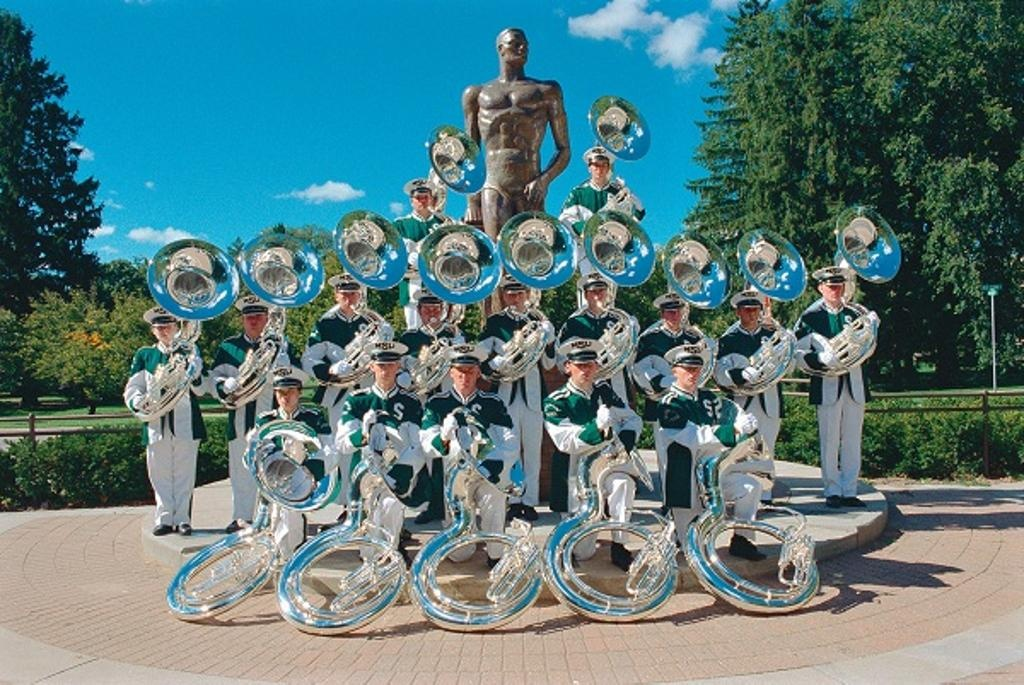human_face: (450, 364, 478, 392), (240, 312, 266, 340), (570, 360, 596, 386), (503, 32, 527, 60), (334, 290, 360, 312), (678, 361, 700, 386), (274, 388, 300, 408), (420, 302, 440, 326), (374, 362, 394, 384), (738, 306, 760, 326), (503, 293, 525, 311), (154, 324, 178, 340), (823, 284, 843, 302), (411, 194, 431, 210), (586, 290, 606, 306), (664, 309, 680, 325), (589, 162, 607, 176)
